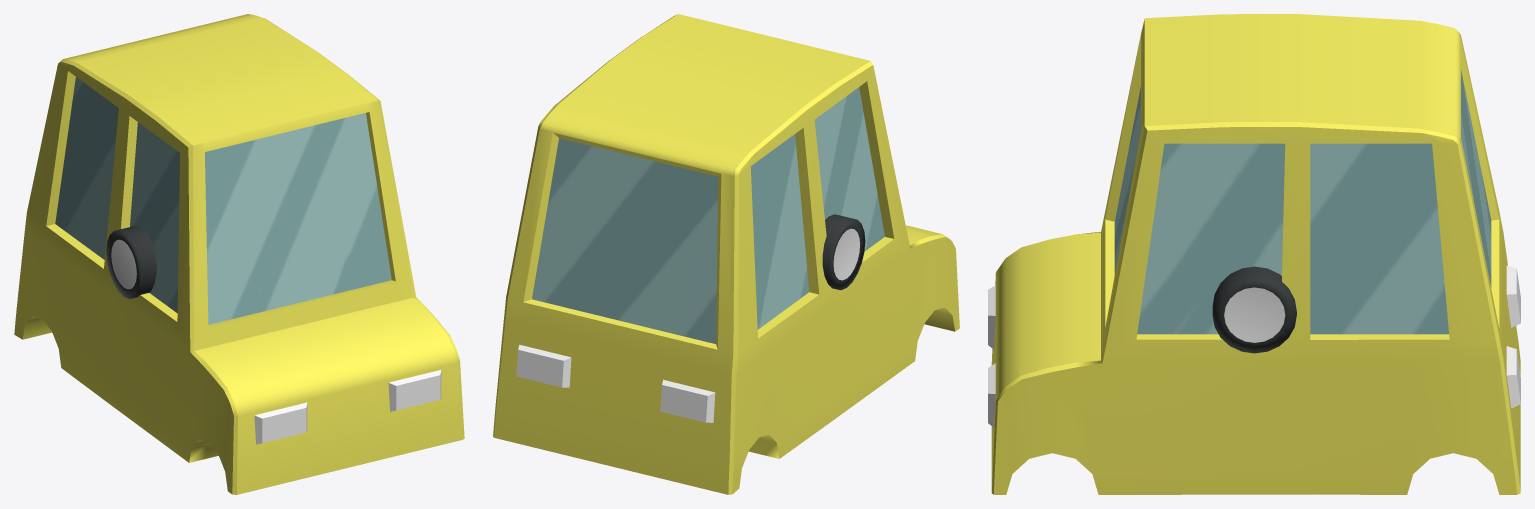
File: car_3_Y.fbx
3 renders of one model, left to right at view 1: azimuth 30°, elevation 25°; view 2: azimuth 150°, elevation 25°; view 3: azimuth 270°, elevation 25°, orthographic. The views are drawn at different scales.
Visible parts, largest first — view 1: car_3_chasis_Y, car_3_back_wheel_Y, car_3_right_wheel_Y; view 2: car_3_chasis_Y, car_3_back_wheel_Y, car_3_right_wheel_Y; view 3: car_3_chasis_Y, car_3_left_wheel_Y.
Part boxes in pixels (x1,y1,x2,y2): car_3_chasis_Y: [14, 14, 464, 494]; car_3_back_wheel_Y: [106, 226, 156, 298]; car_3_right_wheel_Y: [116, 226, 156, 296]; car_3_chasis_Y: [493, 14, 959, 494]; car_3_back_wheel_Y: [822, 214, 865, 290]; car_3_right_wheel_Y: [822, 215, 849, 288]; car_3_chasis_Y: [988, 14, 1520, 494]; car_3_left_wheel_Y: [1212, 266, 1296, 353].
Bounding box in the file's own units: 92.39 × 115 × 154.
